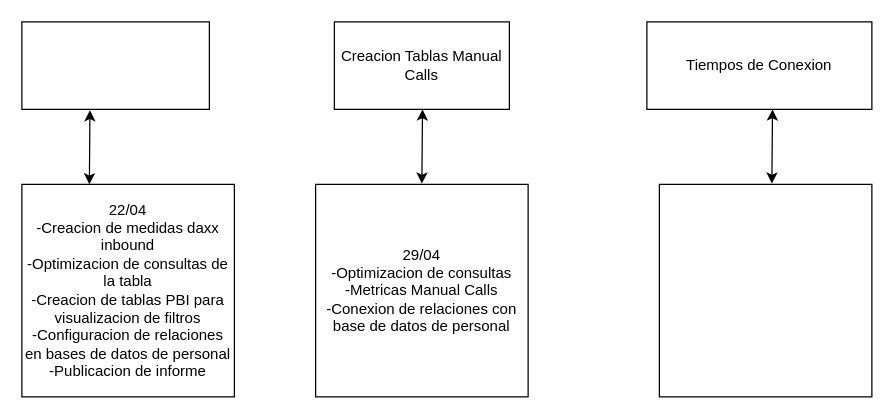
The diagram is 894 pixels wide and 419 high, and some of its shapes have lost their labels. Each missing label, with the box of its shape:
29/04 -Tiempos de conexion de los agentes: (658, 183, 872, 397)
Creacion tablas Inbound, bases de datos Persoal: (21, 21, 209, 109)
